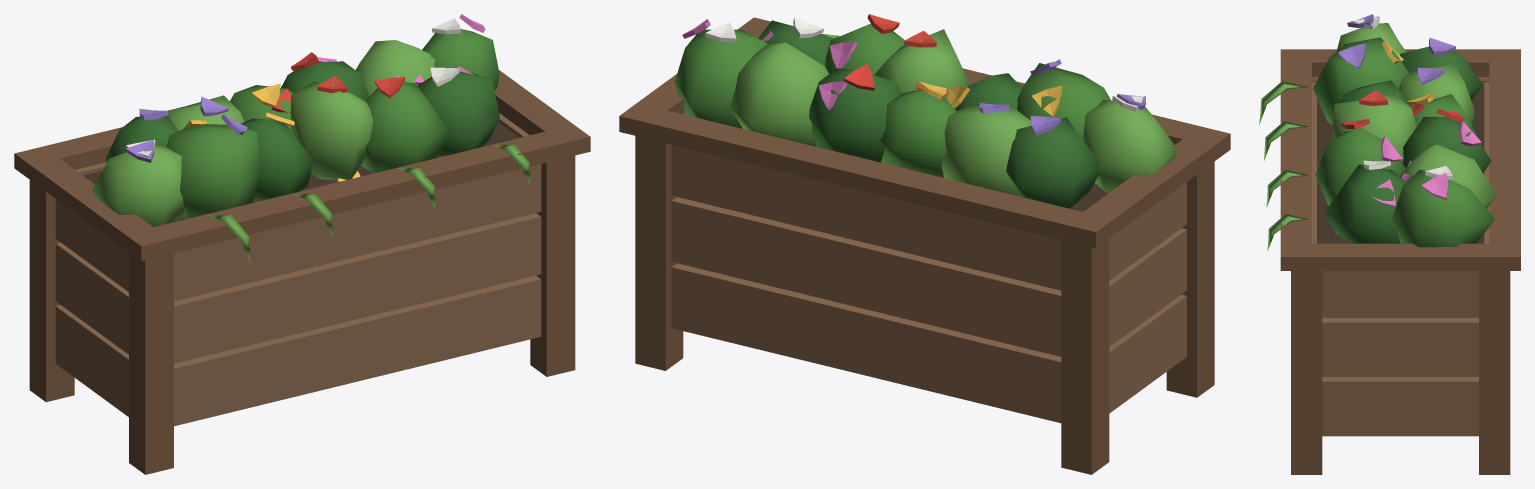
The model's file is planterBox.far.glb.
3 renders of one model, left to right at view 1: azimuth 30°, elevation 25°; view 2: azimuth 150°, elevation 25°; view 3: azimuth 270°, elevation 25°, orthographic. The views are drawn at different scales.
Visible parts, largest first — view 1: planterBox; view 2: planterBox; view 3: planterBox.
Boxes of the visible parts, x1=… form: planterBox: x1=14, y1=14, x2=590, y2=474; planterBox: x1=619, y1=14, x2=1230, y2=474; planterBox: x1=1259, y1=14, x2=1520, y2=474.
Bounding box in the file's own units: 0.94 × 0.6074 × 0.501.
